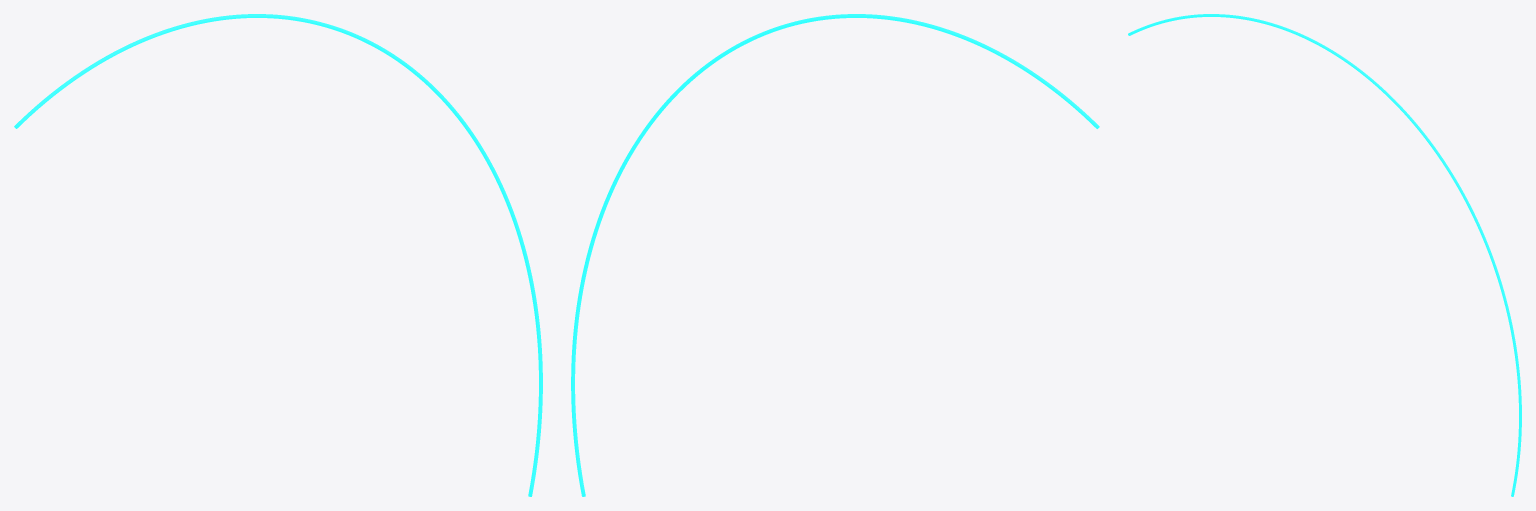
File: SM_RelicSeam_0.fbx
3 views of the same model, side by side, from view 1: azimuth 30°, elevation 25°; view 2: azimuth 150°, elevation 25°; view 3: azimuth 330°, elevation 25° (orthographic). The views are drawn at different scales.
Visible parts, largest first — view 1: SM_RelicSeam_0.001; view 2: SM_RelicSeam_0.001; view 3: SM_RelicSeam_0.001.
Part boxes in pixels (box(x1,y1,x2,y2)): SM_RelicSeam_0.001: box(14, 14, 542, 496); SM_RelicSeam_0.001: box(571, 14, 1099, 496); SM_RelicSeam_0.001: box(1128, 14, 1521, 496).
Size of the model in its own units: 1951 by 12.36 by 1966.
